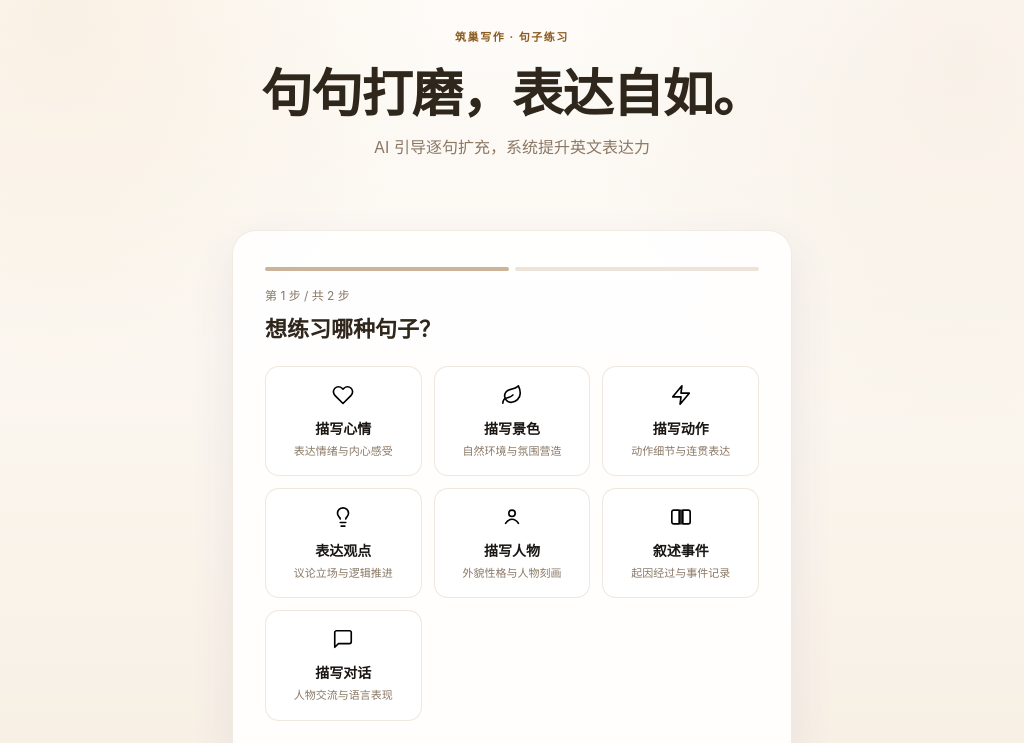
Test: WritingRefineSentencePage › fetches hints for the current draft and surfaces an error if that request fails
Click the button "描写心情 表达情绪与内心感受": (343, 421) [265,366,422,476]
(page scrolled)
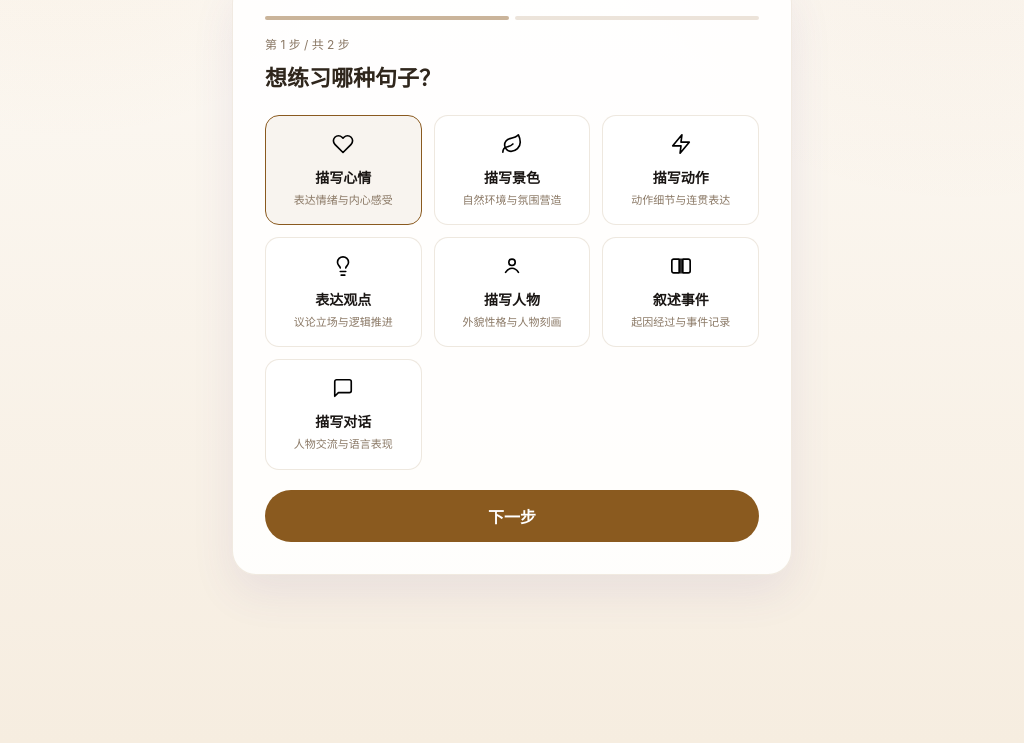
Click the button "下一步": (512, 516) [265,490,759,542]
(page scrolled)
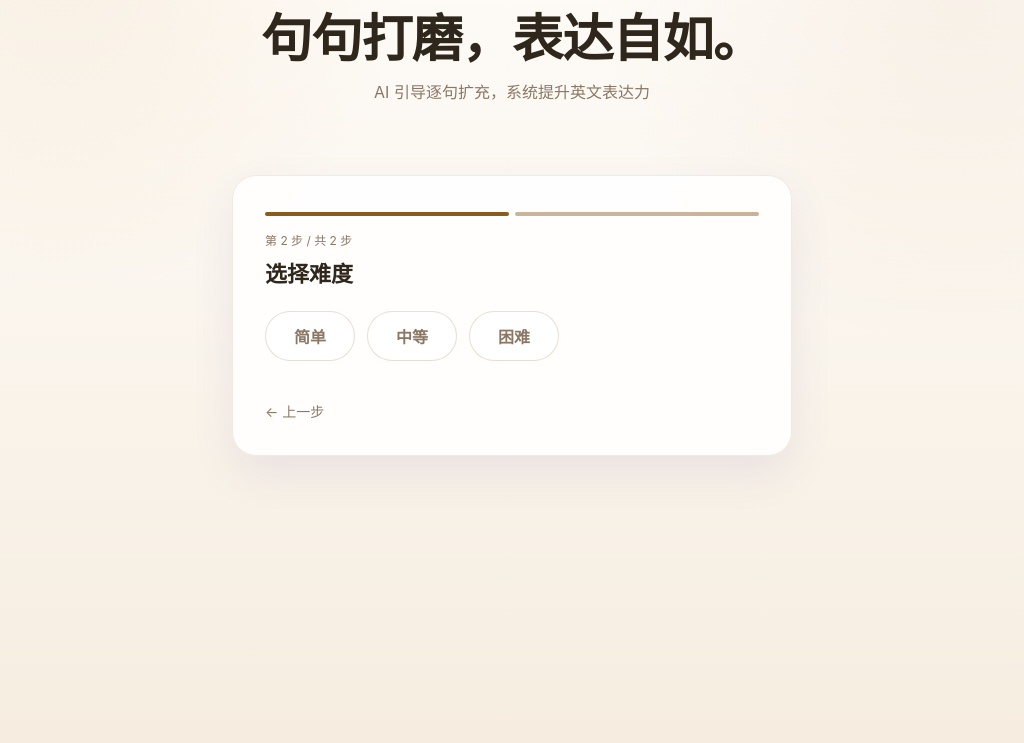
Click the button "简单": (310, 336) [265,311,355,361]
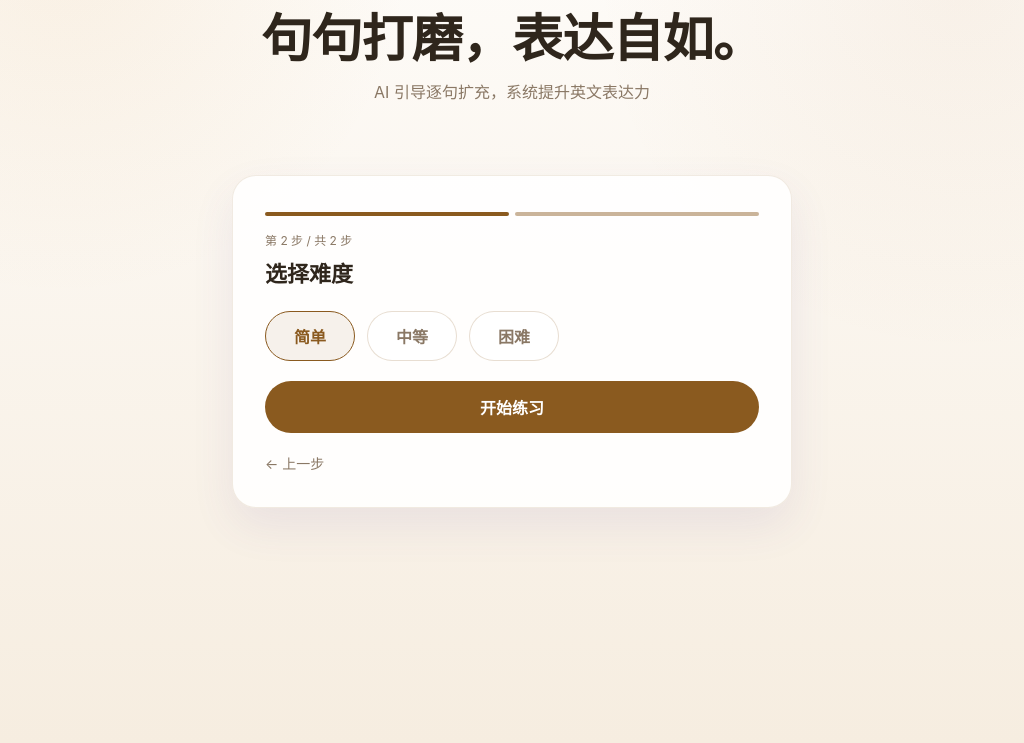
Click the button "开始练习": (512, 407) [265,381,759,433]
(page scrolled)
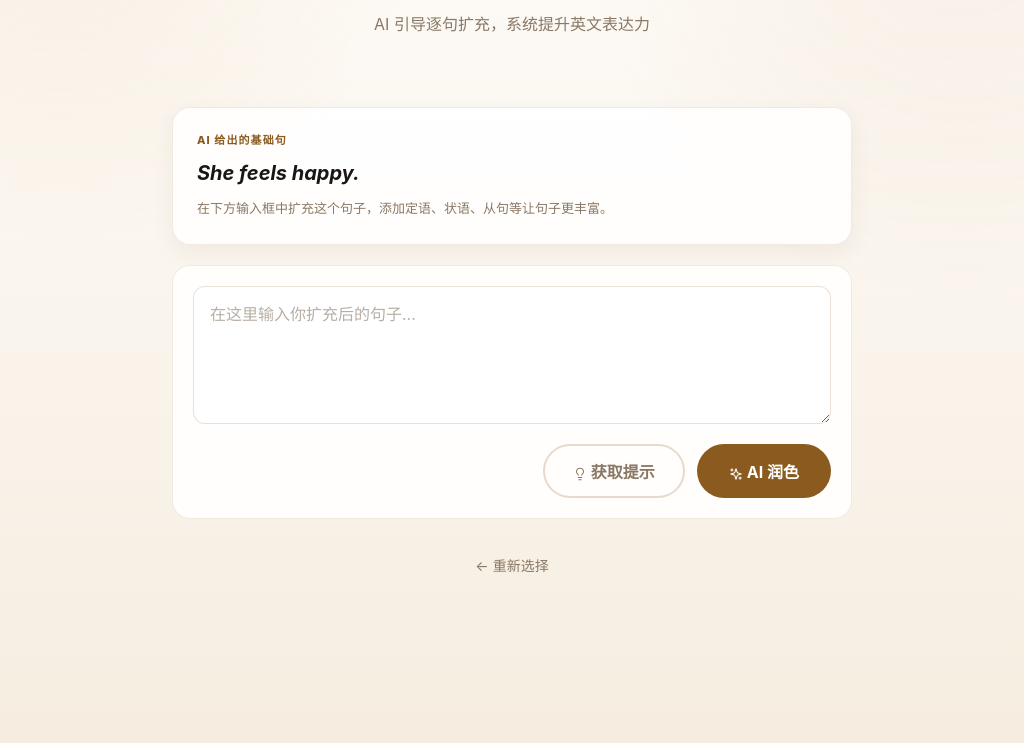
Now the text "She feels happy." is shown, box [197,161,360,185]
In the text box with placeholder "在这里输入你扩充后的句子...": (512, 355) [193,286,831,424], type "She feels very happy today."
Click the button "获取提示": (614, 471) [543,444,685,498]
(page scrolled)
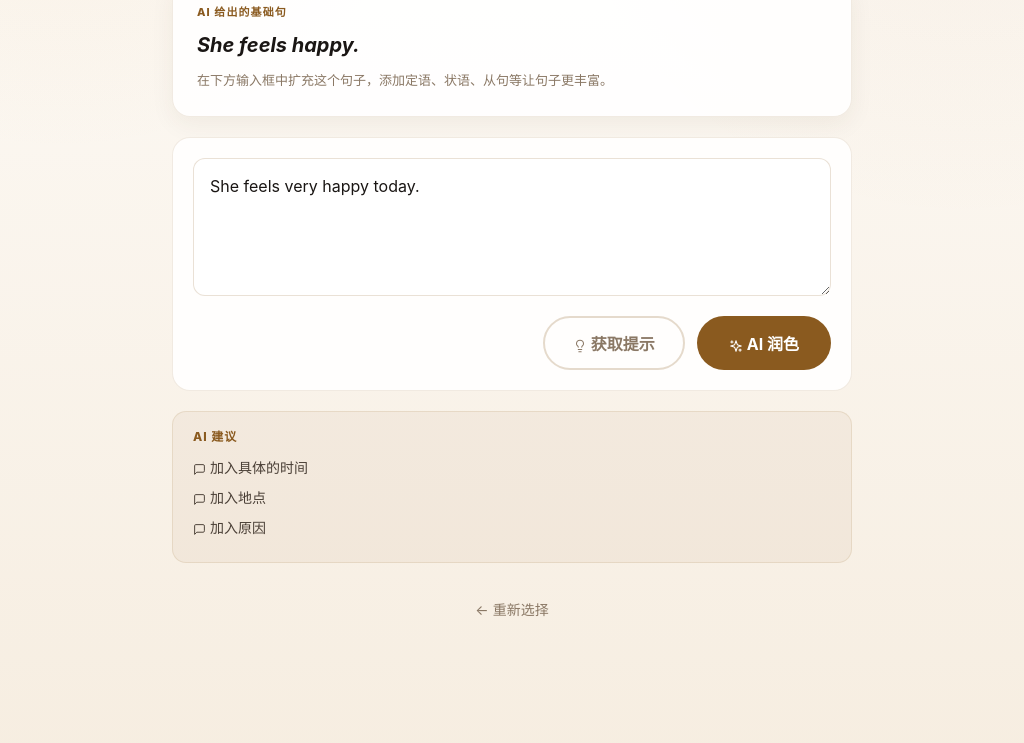
Now the text "加入具体的时间" is shown, box [193,459,308,476]
Click the button "获取提示": (614, 343) [543,316,685,370]
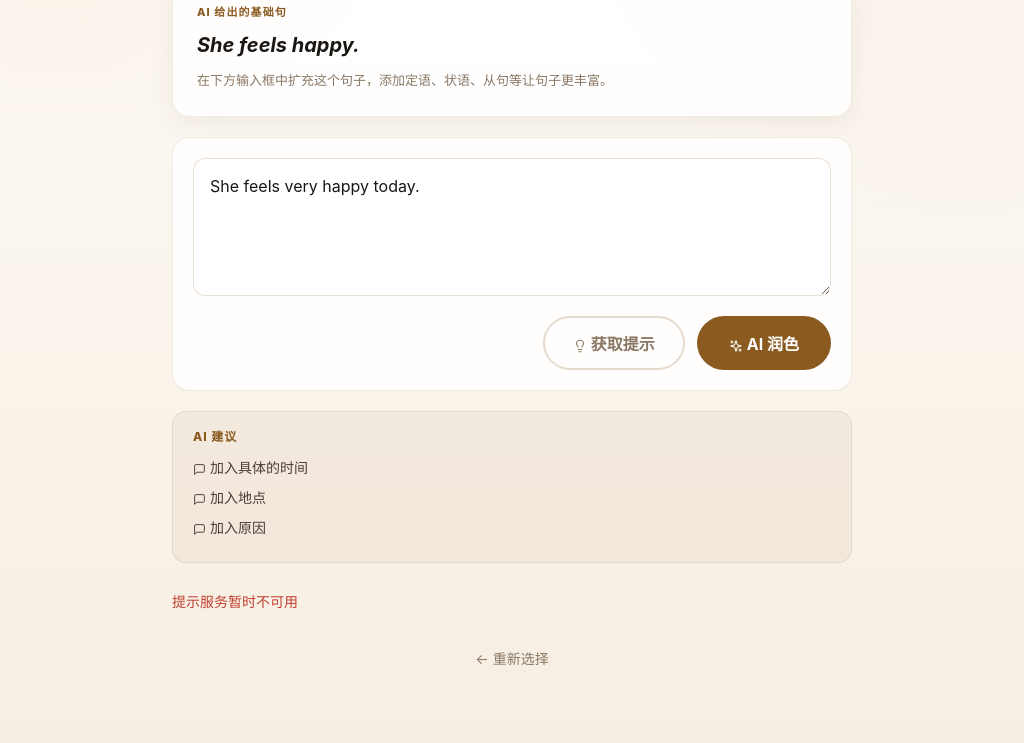
Now the text "提示服务暂时不可用" is shown, box [172,593,298,610]
